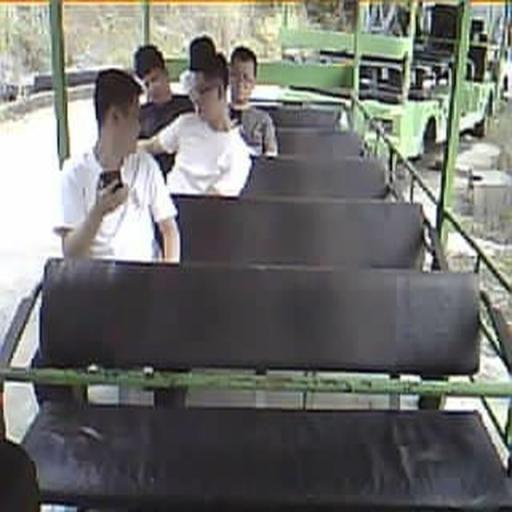persona: (56, 67, 182, 264), (136, 37, 254, 198), (132, 43, 194, 139), (226, 46, 279, 158), (181, 36, 215, 98)
